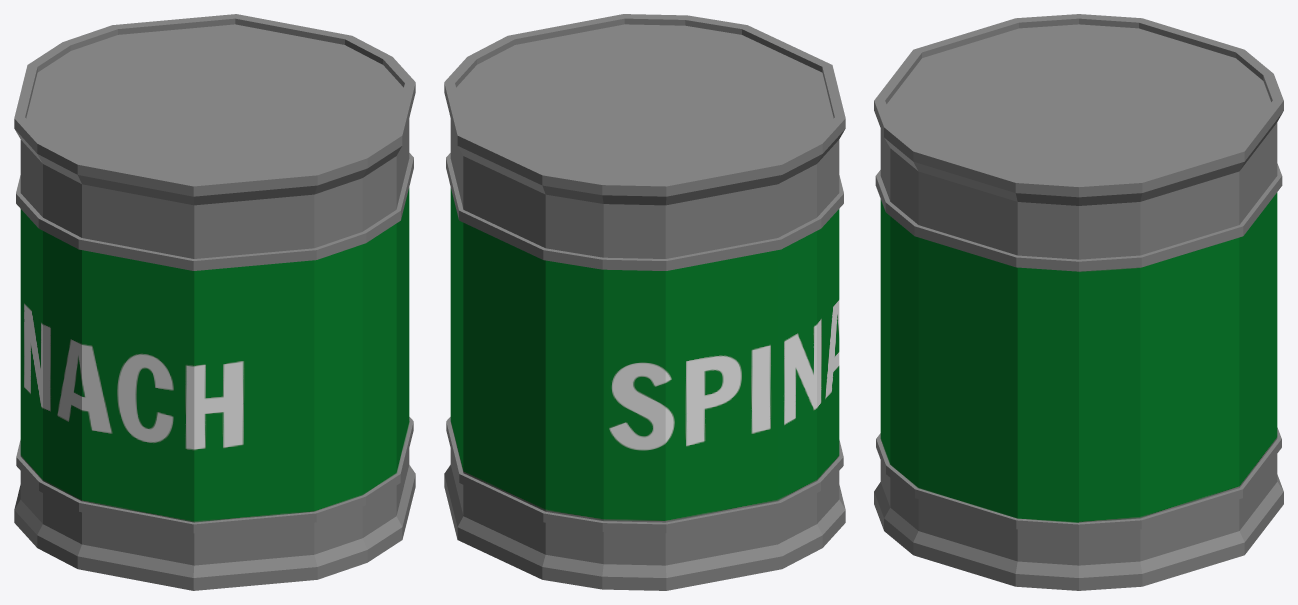
File: Can.obj
The picture shows the model from 3 angles, left to right: view 1: azimuth 30°, elevation 25°; view 2: azimuth 150°, elevation 25°; view 3: azimuth 270°, elevation 25°; orthographic projection.
Size of the model in its own units: 1.62 by 1.76 by 1.62.
1 material, 1 textured.
